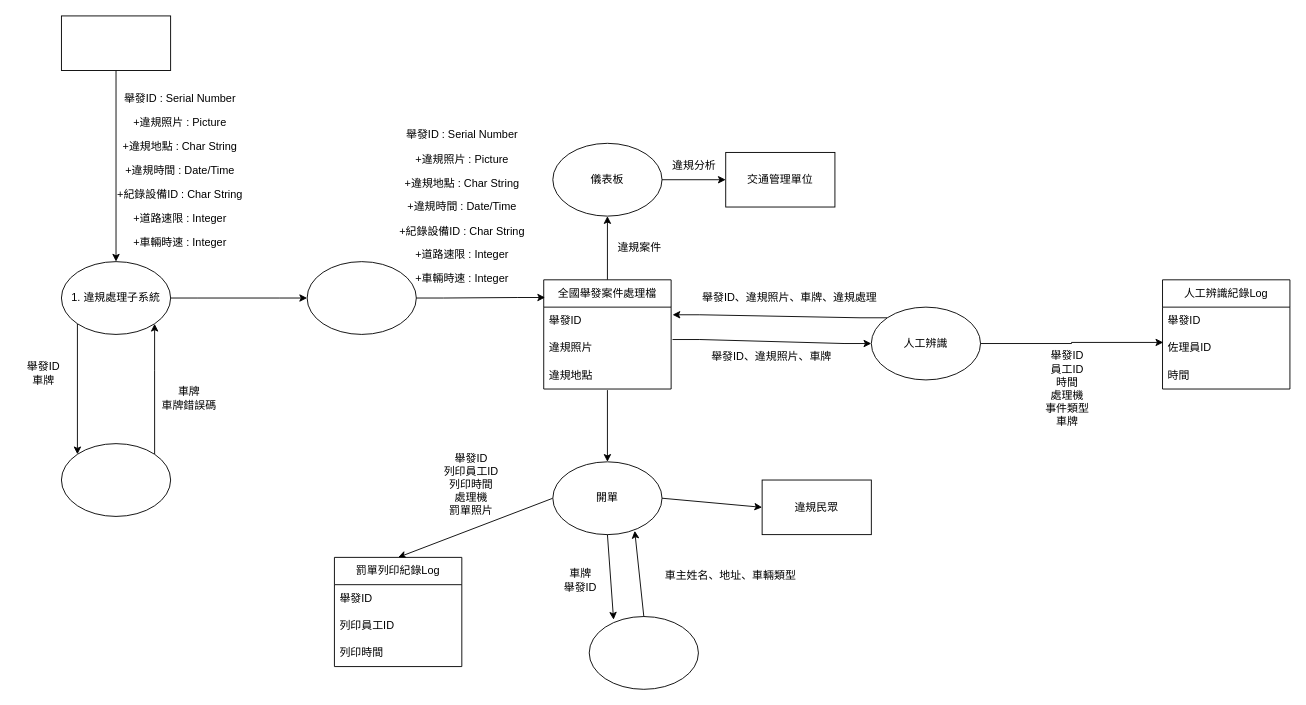
The diagram is 1306 pixels wide and 705 high, and some of its shapes have lost their labels. The shapes that lost their labels are listed below. From the top down, each one's centre as x and y in pixels, then its label:
point 116,43: 智慧燈桿
point 361,297: 違規辨識(只做超速，所以跳過這個步驟)
point 116,479: 車籍驗證
point 643,652: 車籍查詢
